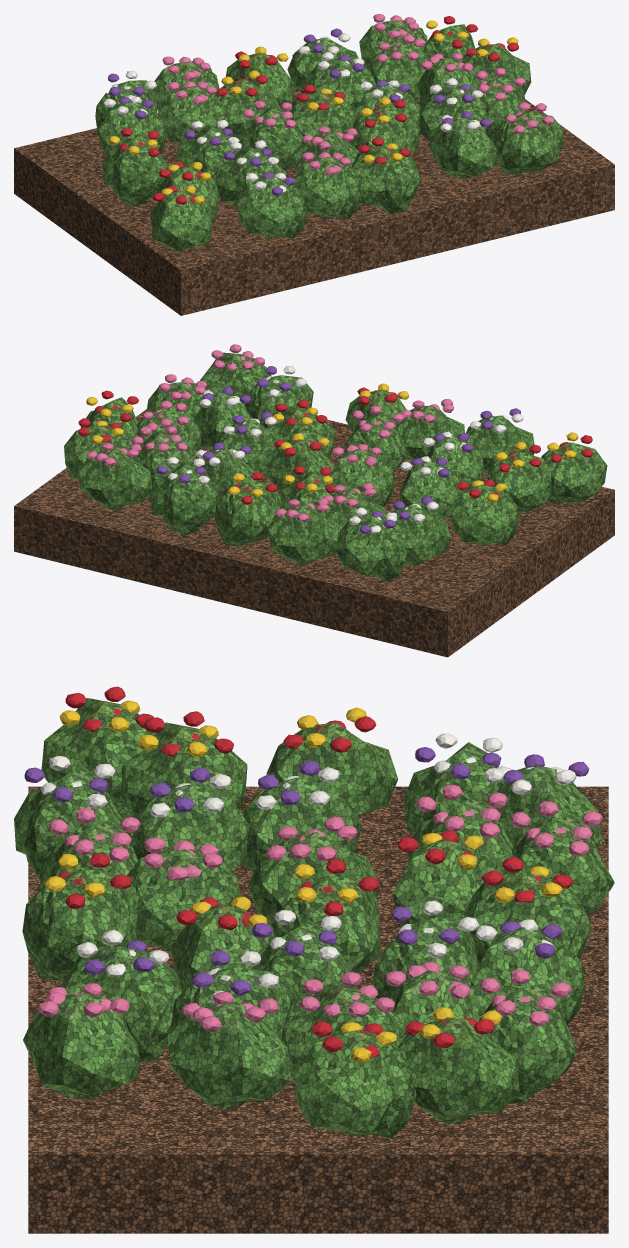
3 views of the same model, one above another, from view 1: azimuth 30°, elevation 25°; view 2: azimuth 150°, elevation 25°; view 3: azimuth 270°, elevation 25° (orthographic). The views are drawn at different scales.
Parts seen in each view (by area): view 1: landscape.flower_bed, biljka-2-0.4- (×20), biljka-0-0.4- (×10), biljka-1-0.4- (×10); view 2: landscape.flower_bed, biljka-2-0.4- (×20), biljka-1-0.4- (×10), biljka-0-0.4- (×10); view 3: landscape.flower_bed, biljka-0-0.4- (×22), biljka-2-0.4- (×20), biljka-1-0.4- (×25).
Boxes of the visible parts, x1,y1,x2,y2 form: landscape.flower_bed: (14,65,614,315); biljka-2-0.4- (×20): (153,14,564,218); biljka-0-0.4- (×10): (102,24,531,251); biljka-1-0.4- (×10): (95,37,497,238); landscape.flower_bed: (14,409,614,657); biljka-2-0.4- (×20): (79,344,464,565); biljka-1-0.4- (×10): (149,375,534,581); biljka-0-0.4- (×10): (64,390,607,546); landscape.flower_bed: (28,786,608,1233); biljka-0-0.4- (×22): (22,686,591,1138); biljka-2-0.4- (×20): (23,784,614,1108); biljka-1-0.4- (×25): (14,733,601,1062).
Size of the model in its own units: 3.08 by 2.07 by 0.7003.
7 materials, 2 textured.
